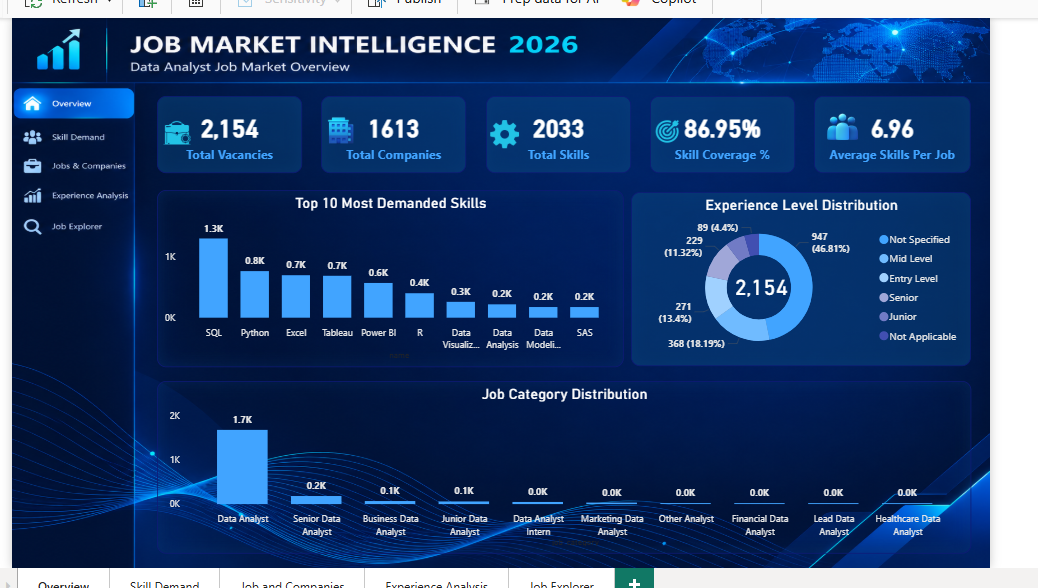

The dashboard page shown, as its layout file describes it:
{"tool":"powerbi","page":{"name":"Overview","canvas":[1280,720],"ordinal":0},"visuals":[{"type":"card","fields":{"Values":["vacancies_cleaned.Total Vacancies"]},"box":[190,102.5,190,101.2],"z":0},{"type":"card","fields":{"Values":["vacancy_skills_cleaned.Average Skills Per Job"]},"box":[1050,102.5,205,101.2],"z":1000},{"type":"card","fields":{"Values":["vacancies_cleaned.Total Companies"]},"box":[405,102.5,190,101.2],"z":2000},{"type":"card","fields":{"Values":["vacancies_cleaned.Skill Coverage %"]},"box":[835,102.5,190,101.2],"z":3000},{"type":"card","fields":{"Values":["skills_cleaned.Total Skills"]},"box":[620,102.5,190,101.2],"z":4000},{"type":"clusteredColumnChart","title":"Job Category Distribution","fields":{"Category":["vacancies_cleaned.job_category"],"Y":["vacancies_cleaned.Total Vacancies"]},"box":[190.1,475.2,1065.6,226.1],"z":5000},{"type":"donutChart","title":"Experience Level Distribution","fields":{"Category":["vacancies_cleaned.experience_level_clean"],"Y":["vacancies_cleaned.Total Vacancies"]},"box":[810.7,227.5,445,227.5],"z":6000},{"type":"card","fields":{"Values":["vacancies_cleaned.Total Vacancies"]},"box":[928.2,308.3,105.5,85.4],"z":7000},{"type":"clusteredColumnChart","title":"Top 10 Most Demanded Skills ","fields":{"Y":["CountNonNull(vacancy_skills_cleaned.skill_id)"],"Category":["skills_cleaned.name"]},"box":[190.1,224.6,610.6,231.8],"z":8000},{"type":"actionButton","box":[0,132.5,162.7,40.3],"z":9000},{"type":"actionButton","box":[0,172.8,162.7,40.3],"z":10000},{"type":"actionButton","box":[0,213.1,162.7,40.3],"z":11000},{"type":"actionButton","box":[0,253.4,162.7,40.3],"z":12000},{"type":"actionButton","box":[0,92.2,162.7,40.3],"z":13000},{"type":"image","box":[404.6,125.3,53.3,43.2],"z":14000},{"type":"image","box":[620.6,132.5,49,40.3],"z":15000},{"type":"image","box":[835.2,112.3,44.6,72],"z":16000},{"type":"image","box":[1064.2,112.3,46.1,60.5],"z":17000},{"type":"image","box":[190.1,129.6,51.8,36],"z":18000}]}

Visuals, with their boxes on the page's 1280x720 design canvas (x1, y1, x2, y2). These are canvas units, not pixel positions in the 1038x588 screenshot, which may show the page scaled, cropped or inside an application window:
card - vacancies_cleaned.Total Vacancies: [190, 102, 380, 204]
card - vacancy_skills_cleaned.Average Skills Per Job: [1050, 102, 1255, 204]
card - vacancies_cleaned.Total Companies: [405, 102, 595, 204]
card - vacancies_cleaned.Skill Coverage %: [835, 102, 1025, 204]
card - skills_cleaned.Total Skills: [620, 102, 810, 204]
"Job Category Distribution" clusteredColumnChart: [190, 475, 1256, 701]
"Experience Level Distribution" donutChart: [811, 228, 1256, 455]
card - vacancies_cleaned.Total Vacancies: [928, 308, 1034, 394]
"Top 10 Most Demanded Skills " clusteredColumnChart: [190, 225, 801, 456]
actionButton: [0, 132, 163, 173]
actionButton: [0, 173, 163, 213]
actionButton: [0, 213, 163, 253]
actionButton: [0, 253, 163, 294]
actionButton: [0, 92, 163, 132]
image: [405, 125, 458, 168]
image: [621, 132, 670, 173]
image: [835, 112, 880, 184]
image: [1064, 112, 1110, 173]
image: [190, 130, 242, 166]
